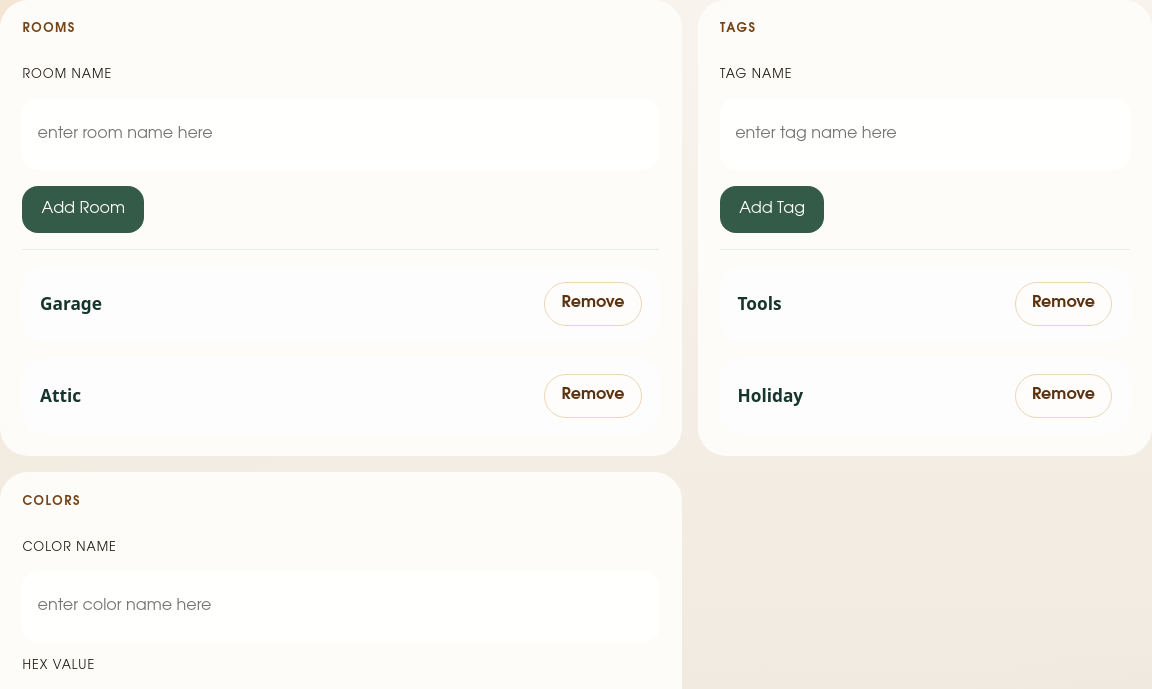
Test: rooms management route › creates a tag and shows it in the list
Type "Archive" into the field with placeholder "enter tag name here" at coordinates (925, 134), box [720,98,1130,170]
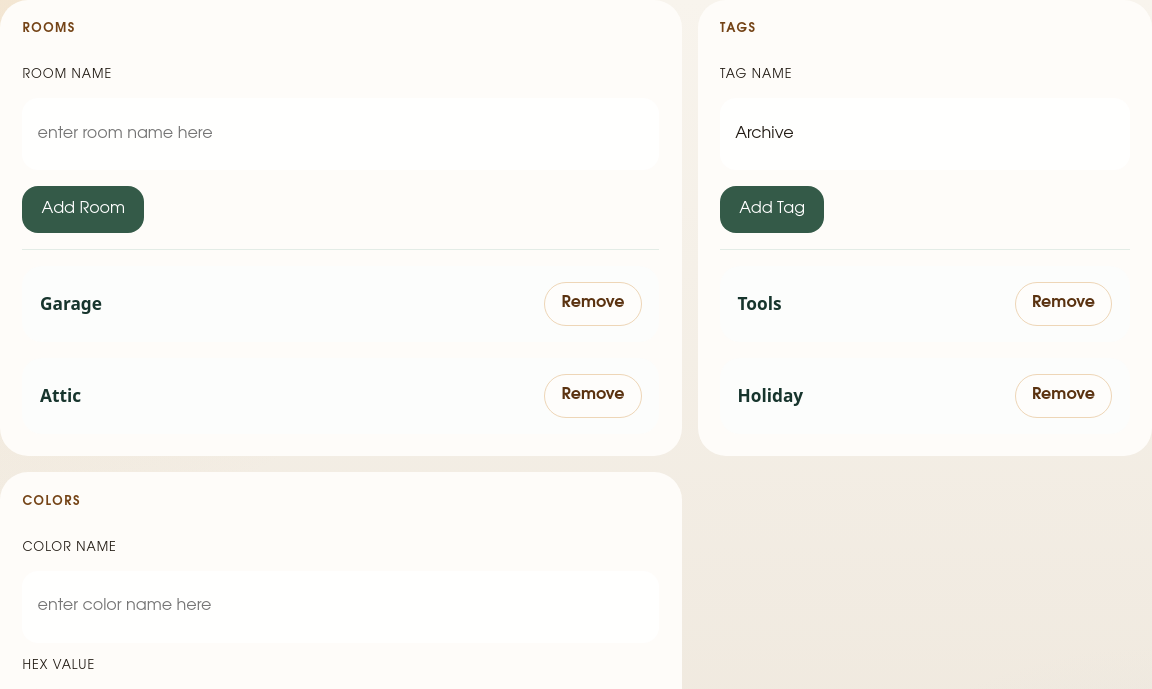
Click the button "Add Tag" at coordinates (772, 210), box [720,186,824,233]
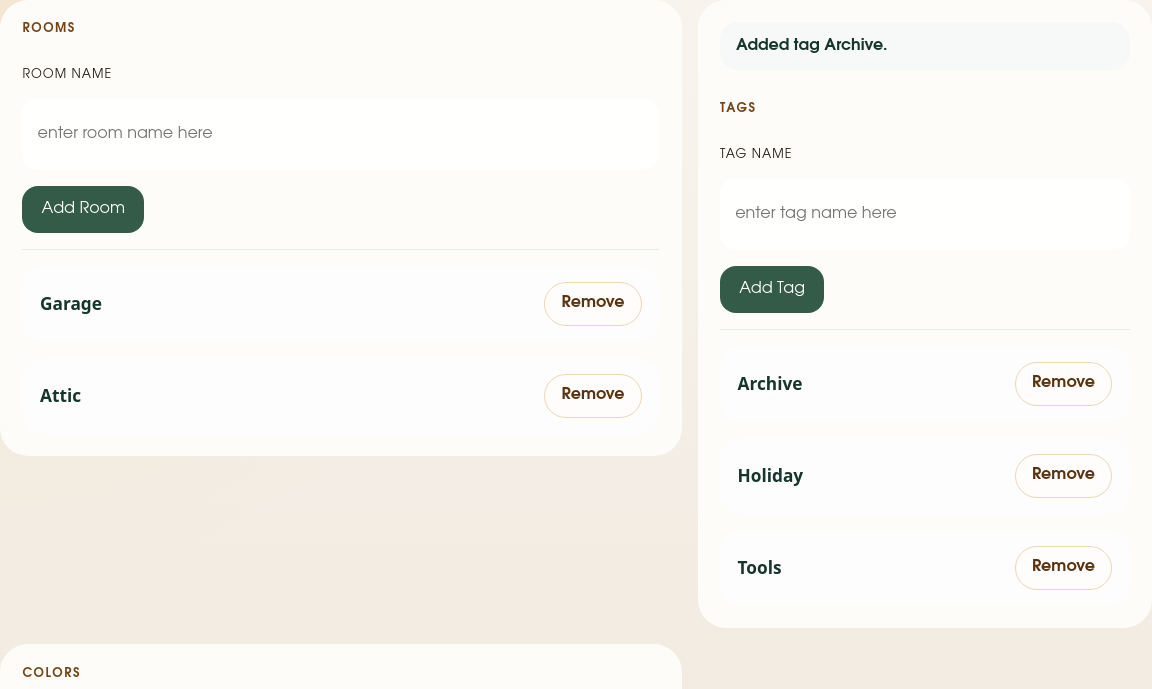
Result: the text "Added tag Archive." is shown at [720,22,1130,70]
Result: the text "Archive" is shown at [738,372,802,395]
